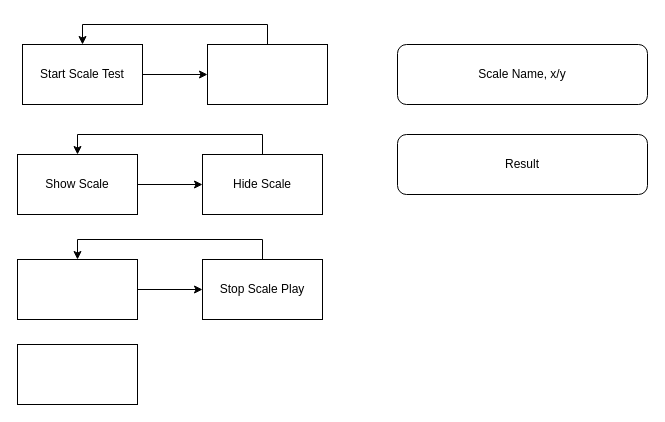
Some shapes in this 665 by 422 pixel diagram are drawn without their labels. Here are the shapes that lost their labels. From the top down, the box of each, then its label:
(206, 44, 328, 104): Stop Scale Test
(16, 258, 138, 320): Play Scale
(16, 344, 138, 404): Show BPM, non-interactable
